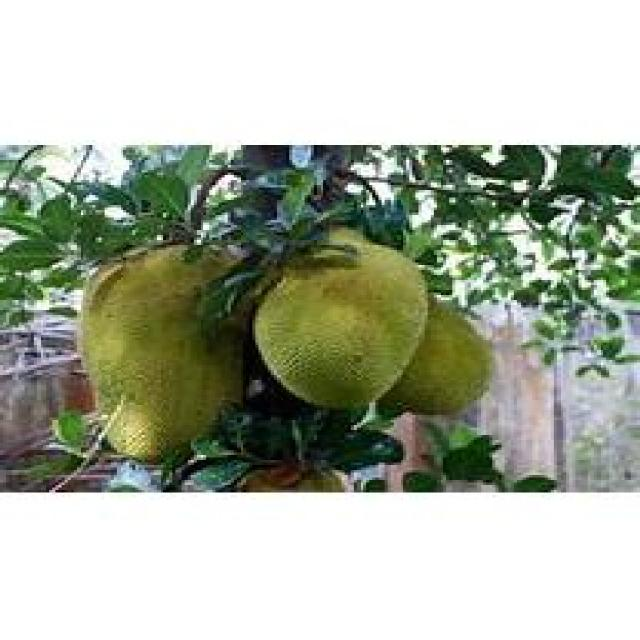Fruit: (58, 230, 258, 475), (237, 223, 446, 425)
